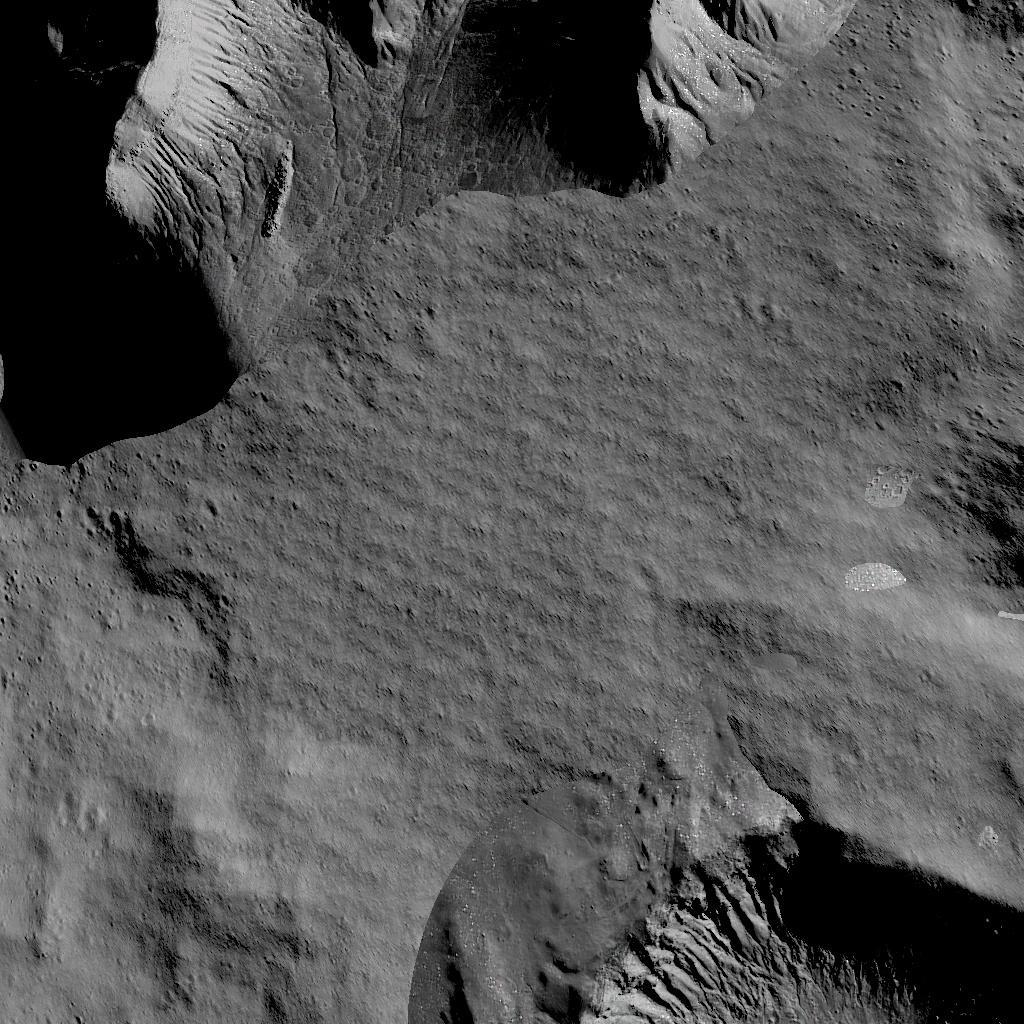Boulders: (36, 0, 858, 383)
Crater: (453, 726, 1024, 1024), (941, 416, 1024, 614)
Plan surface: (5, 478, 425, 1024), (453, 404, 921, 704), (887, 0, 1024, 392)
